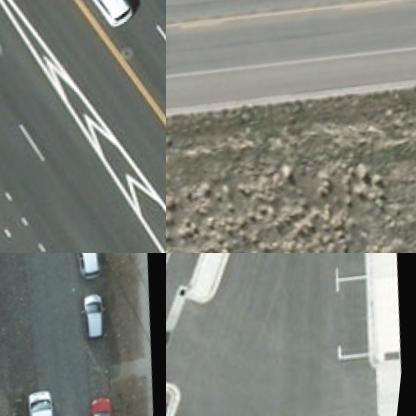car: (72, 0, 143, 31), (81, 288, 119, 336), (68, 253, 114, 279), (89, 391, 129, 415)
van: (27, 386, 67, 415)
